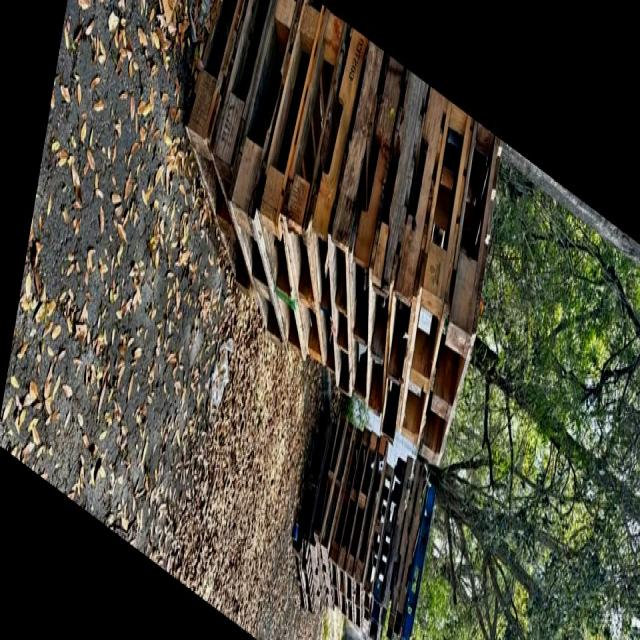non-igps: (414, 102, 506, 474), (225, 0, 310, 359), (397, 90, 478, 452), (378, 56, 452, 452), (252, 0, 329, 367), (278, 0, 349, 372), (362, 64, 433, 423), (346, 46, 413, 408), (325, 32, 389, 403), (179, 0, 256, 306), (310, 15, 372, 381), (210, 0, 280, 181), (352, 428, 392, 636), (365, 452, 408, 640), (383, 449, 424, 640), (312, 407, 350, 610), (344, 424, 381, 629), (319, 416, 357, 614), (326, 420, 365, 612), (334, 421, 372, 618), (358, 455, 398, 640), (378, 446, 417, 635), (308, 408, 342, 615), (391, 467, 430, 640), (399, 479, 439, 640)
